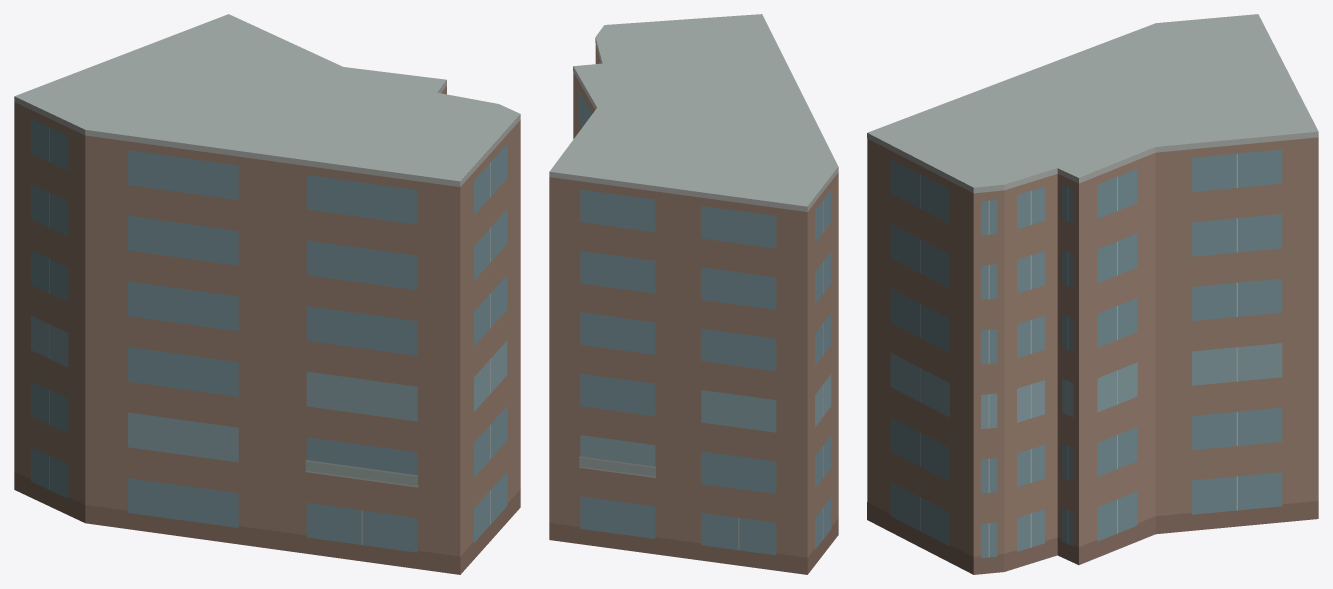
The model's file is survey-upis-32923889.glb.
The picture shows the model from 3 angles, left to right: view 1: azimuth 30°, elevation 25°; view 2: azimuth 150°, elevation 25°; view 3: azimuth 270°, elevation 25°; orthographic projection. The views are drawn at different scales.
Parts seen in each view (by area): view 1: survey-upis-32923889.tmp; view 2: survey-upis-32923889.tmp; view 3: survey-upis-32923889.tmp.
Boxes of the visible parts, x1,y1,x2,y2 form: survey-upis-32923889.tmp: [14, 14, 520, 574]; survey-upis-32923889.tmp: [549, 14, 838, 574]; survey-upis-32923889.tmp: [867, 14, 1318, 574].
Size of the model in its own units: 16.18 by 16.8 by 17.77.
